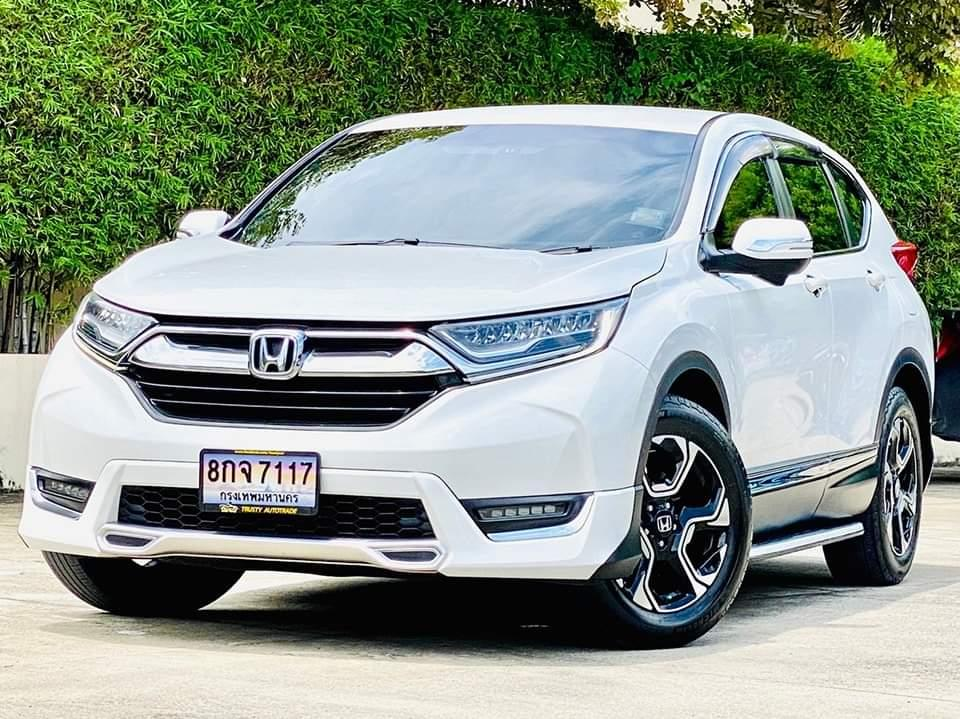license-plate: (197, 444, 319, 522)
